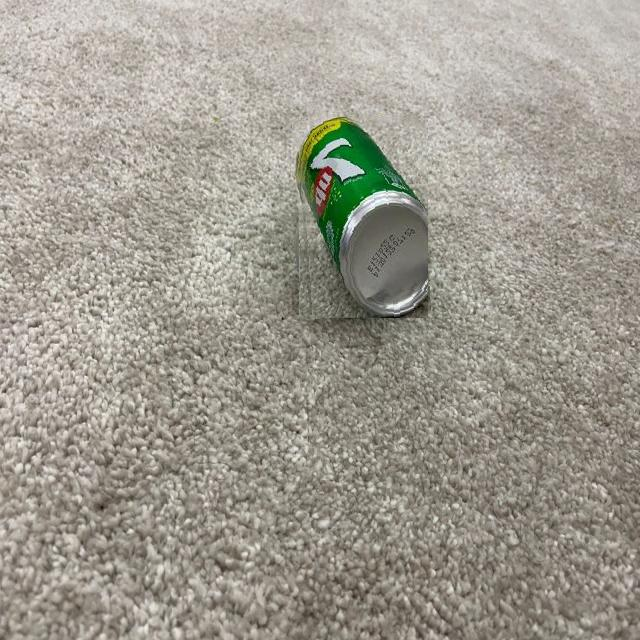recyclable: (296, 114, 428, 318)
